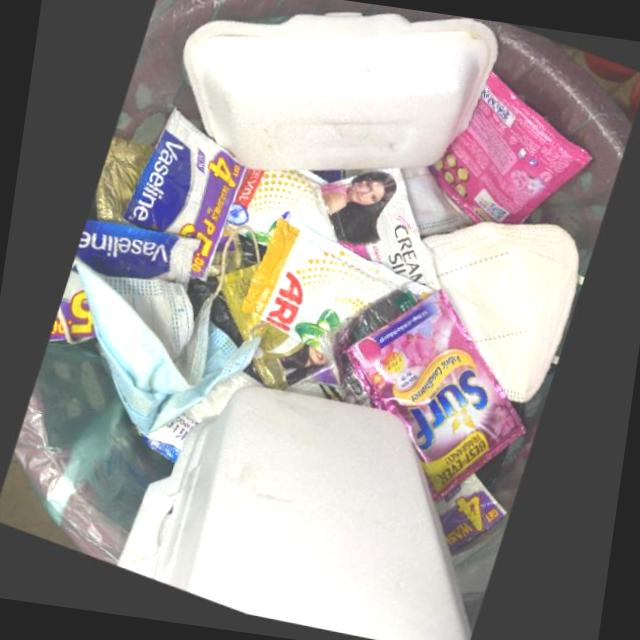goi_nhua_nho: (344, 292, 520, 506), (240, 218, 433, 353), (425, 75, 592, 227), (122, 114, 243, 285), (317, 174, 438, 293), (73, 227, 202, 297), (223, 174, 337, 249), (422, 476, 506, 561), (48, 272, 94, 351)
khau_trang: (73, 263, 260, 442), (421, 224, 579, 411)
xop: (117, 385, 469, 640), (180, 16, 497, 179)
